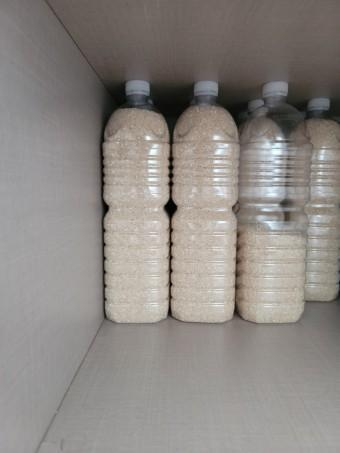bottle: (234, 81, 310, 324), (102, 80, 173, 321), (170, 81, 238, 322), (303, 92, 340, 311)
